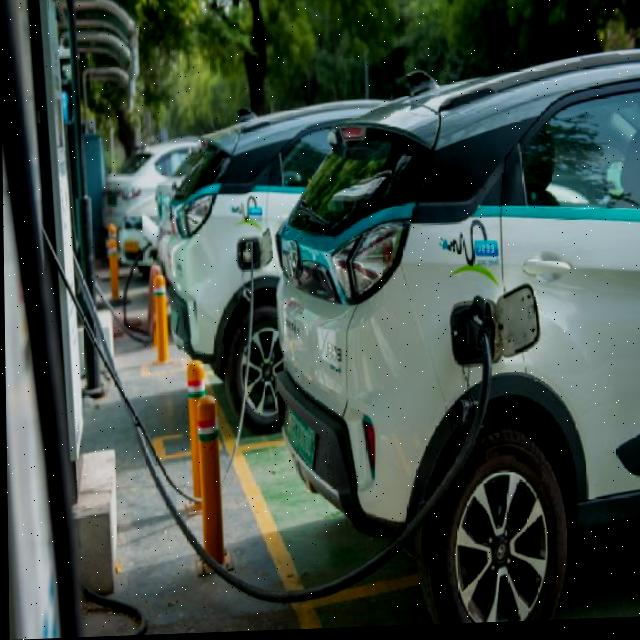plate: (282, 407, 318, 472)
